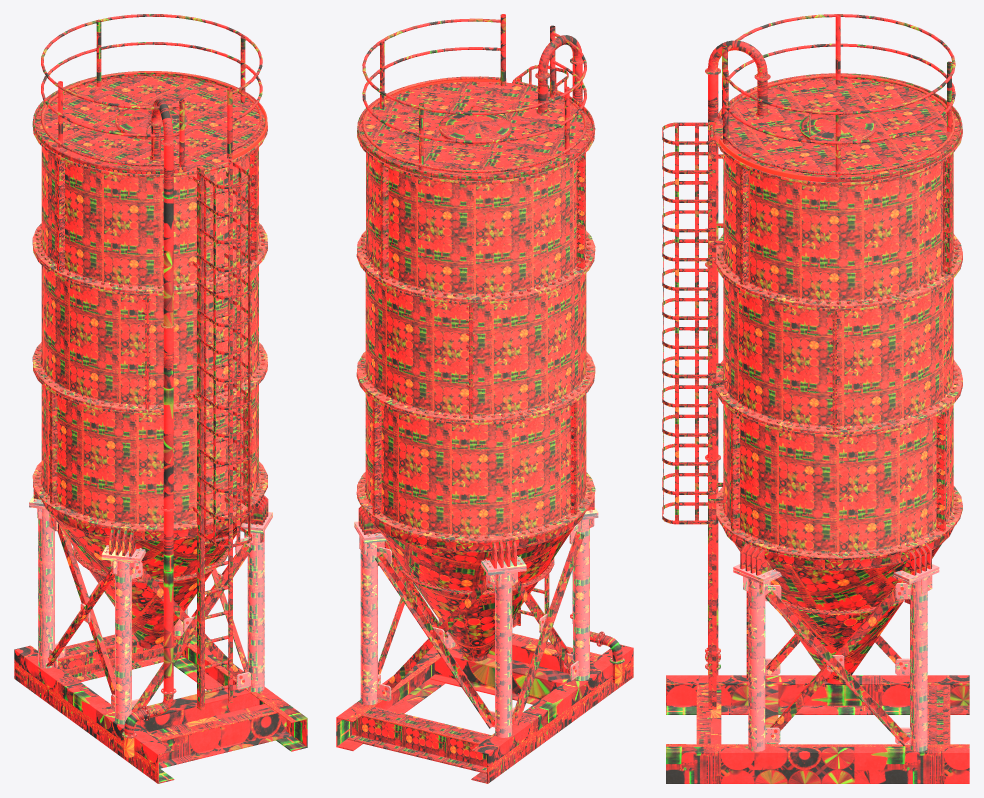
Rendered from SM_SiloLittle.fbx.
3 views of the same model, side by side, from view 1: azimuth 30°, elevation 25°; view 2: azimuth 150°, elevation 25°; view 3: azimuth 270°, elevation 25° (orthographic). The views are drawn at different scales.
Visible parts, largest first — view 1: SM_SiloLittle_LOD0; view 2: SM_SiloLittle_LOD0; view 3: SM_SiloLittle_LOD0.
Boxes of the visible parts, left/top/right/bottom form: SM_SiloLittle_LOD0: left=14, top=14, right=307, bottom=783; SM_SiloLittle_LOD0: left=336, top=14, right=633, bottom=783; SM_SiloLittle_LOD0: left=662, top=14, right=969, bottom=783.
Size of the model in its own units: 286 by 352 by 869.
